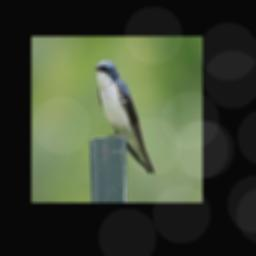Swallow: (93, 60, 155, 175)
